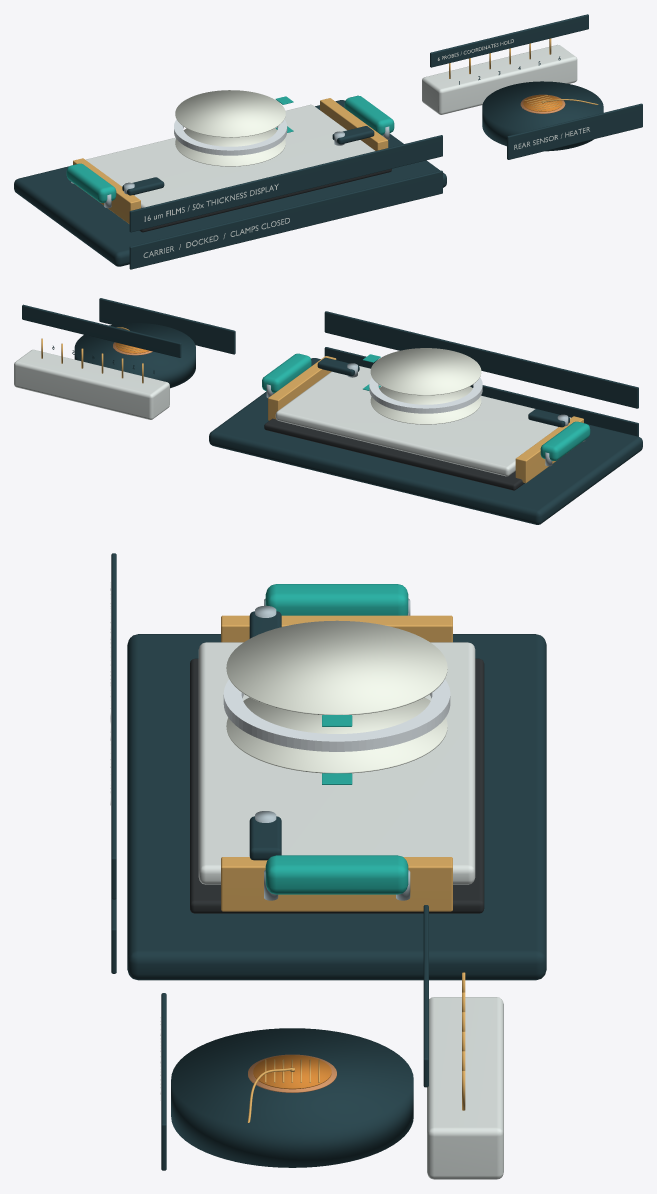
File: cooling_handling_module.glb
The picture shows the model from 3 angles, top to bottom: view 1: azimuth 30°, elevation 25°; view 2: azimuth 150°, elevation 25°; view 3: azimuth 270°, elevation 25°; orthographic projection. The views are drawn at different scales.
Parts seen in each view (by area): view 1: carrier.tray, dock.base, dock.nameplate.plate, handling.caption.plate, map_probe_rack, backside.support, handling.film.upper, backside.label.plate, map_probe.warning.plate, handling.film.lower, handling.film_frame, carrier.handle_bridge (+9 smaller); view 2: dock.base, carrier.tray, handling.caption.plate, map_probe_rack, handling.film.upper, backside.support, dock.seating_pad, backside.label.plate, map_probe.warning.plate, dock.nameplate.plate, handling.film.lower, handling.film_frame (+6 smaller); view 3: dock.base, carrier.tray, backside.support, handling.film.upper, map_probe_rack, handling.film.lower, dock.alignment_key.001, dock.seating_pad, carrier.handle_bridge.001, handling.film_frame, carrier.handle_bridge, dock.alignment_key (+5 smaller).
Part boxes in pixels (x1,y1,x2,y2): carrier.tray: (85, 104, 374, 208); dock.base: (14, 100, 446, 266); dock.nameplate.plate: (129, 170, 442, 269); handling.caption.plate: (129, 135, 442, 232); map_probe_rack: (422, 44, 577, 114); backside.support: (482, 81, 603, 151); handling.film.upper: (175, 90, 285, 137); backside.label.plate: (507, 103, 642, 159); map_probe.warning.plate: (430, 14, 588, 67); handling.film.lower: (175, 128, 285, 166); handling.film_frame: (174, 119, 287, 155); carrier.handle_bridge: (66, 163, 116, 202); dock.base: (209, 358, 642, 524); carrier.tray: (275, 366, 570, 476); handling.caption.plate: (324, 311, 638, 408); map_probe_rack: (14, 349, 169, 419); handling.film.upper: (370, 348, 481, 395); backside.support: (74, 323, 195, 388); dock.seating_pad: (264, 418, 524, 490); backside.label.plate: (99, 298, 235, 354); map_probe.warning.plate: (22, 304, 181, 357); dock.nameplate.plate: (324, 347, 638, 436); handling.film.lower: (370, 386, 481, 424); handling.film_frame: (369, 377, 482, 413); dock.base: (127, 634, 546, 980); carrier.tray: (198, 642, 475, 884); backside.support: (171, 1028, 413, 1167); handling.film.upper: (226, 620, 447, 714); map_probe_rack: (427, 997, 503, 1179); handling.film.lower: (226, 697, 447, 773); dock.alignment_key.001: (221, 857, 452, 911); dock.seating_pad: (190, 658, 484, 913); carrier.handle_bridge.001: (265, 855, 408, 894); handling.film_frame: (223, 679, 450, 751); carrier.handle_bridge: (265, 584, 408, 615); dock.alignment_key: (221, 615, 452, 642).
Bounding box in the file's own units: 0.7075 × 0.096 × 0.2446.
